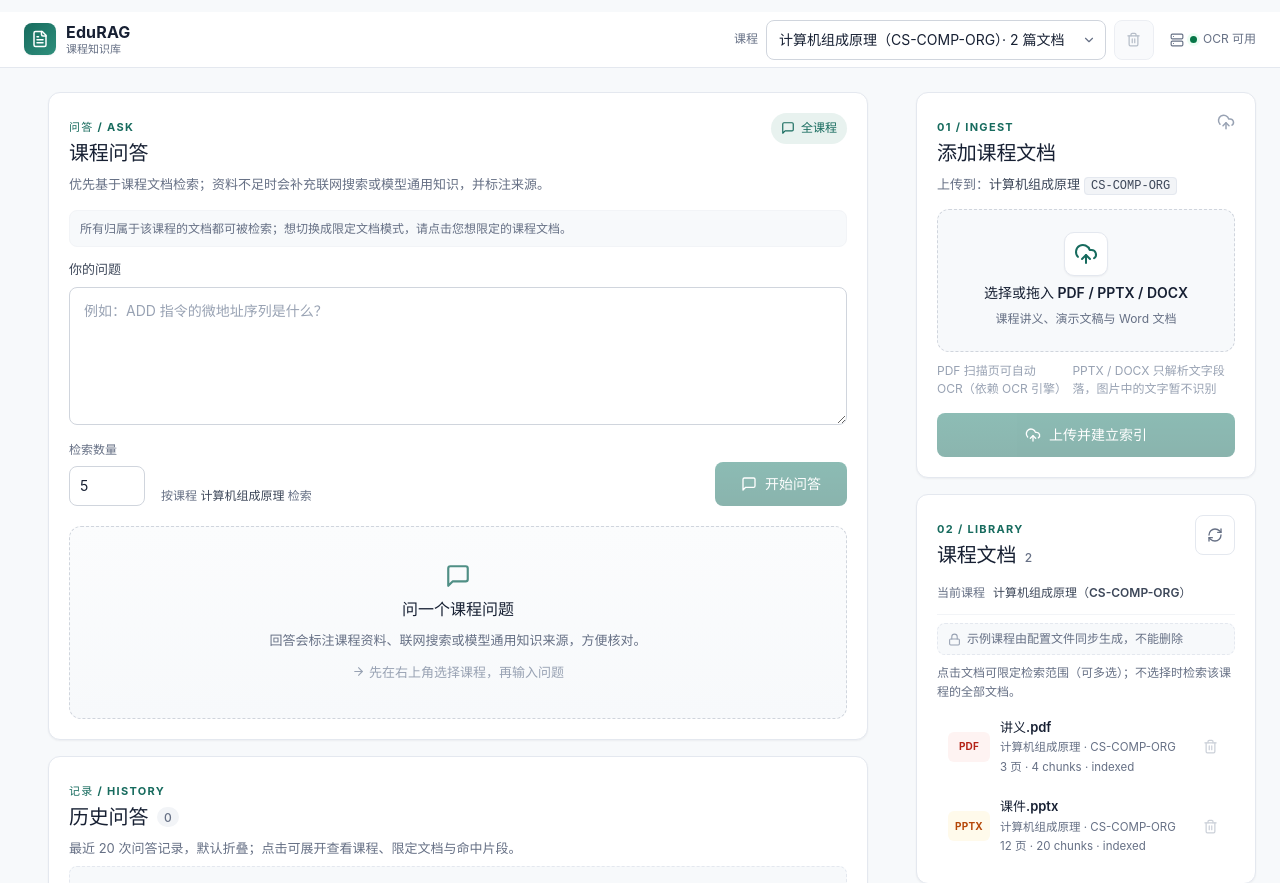
Test case: EduRAG 前端工作流 › 创建课程返回 409 course_exists 时自动切换到已有课程
Expected: the text "讲义.pdf" is shown, [1000,719,1051,735]
Select "+ 手动新建课程…" in the dropdown labelled "课程": (936, 40) [766,20,1106,60]
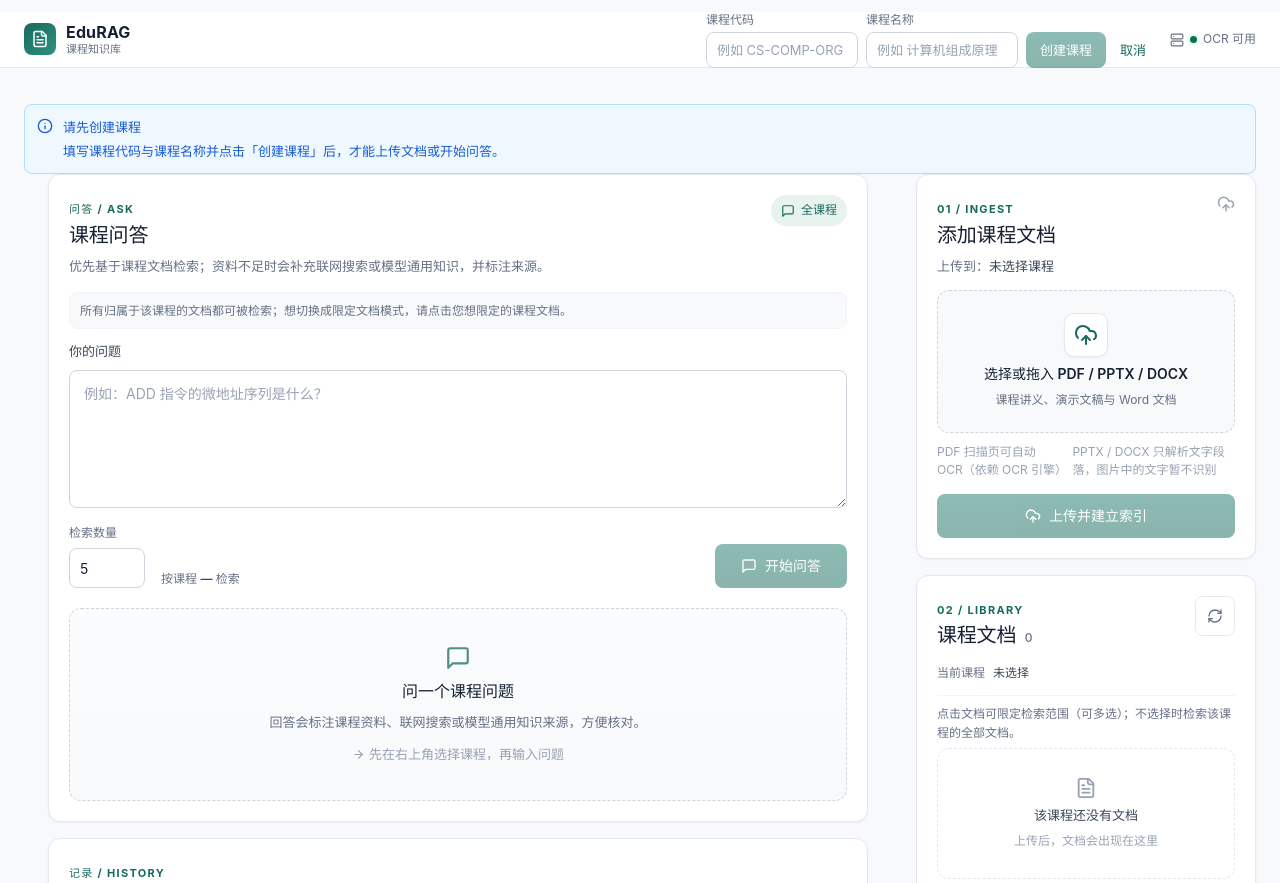
In the field labelled "课程代码": (782, 50) [706,32,858,68], type "cs-sys"
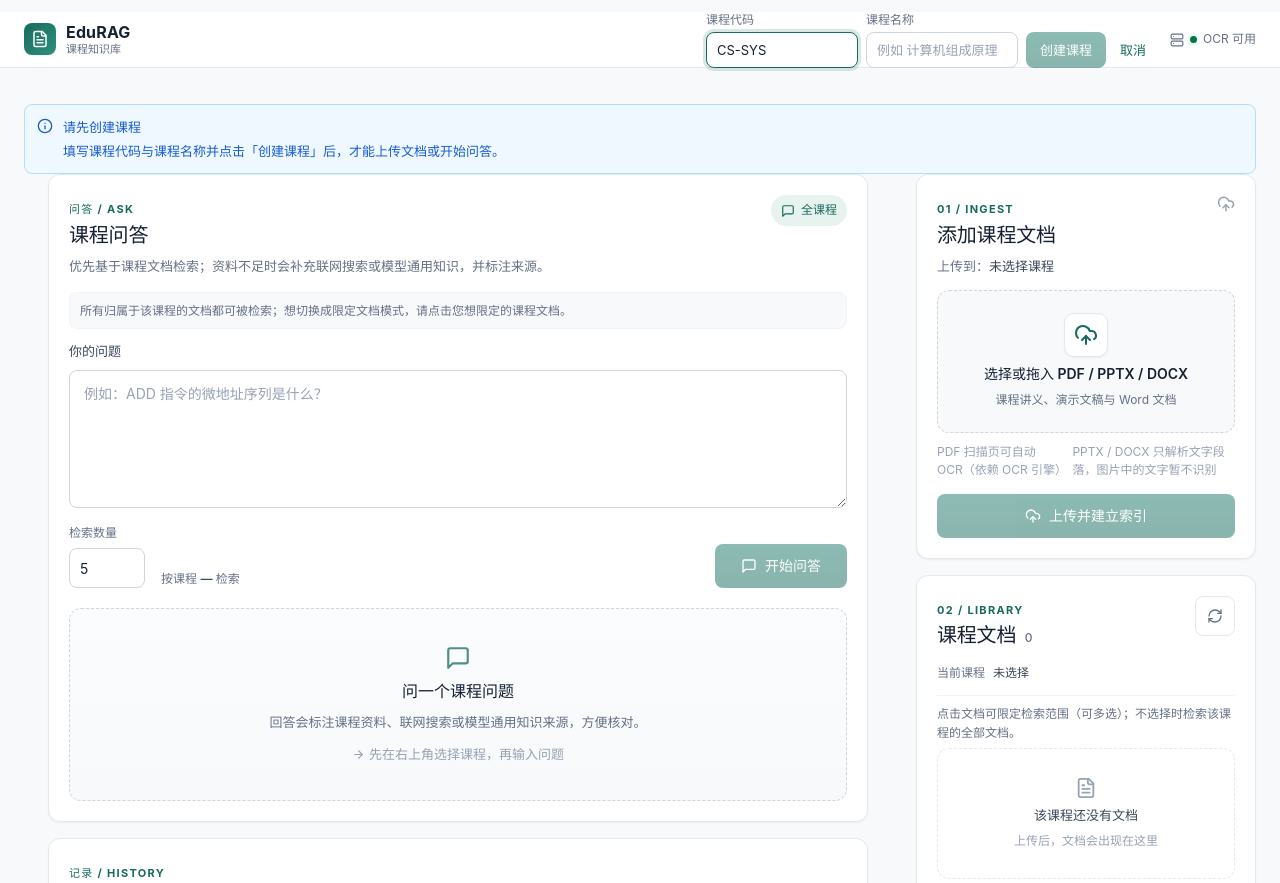
In the field labelled "课程名称": (942, 50) [866,32,1018,68], type "计算机系统"
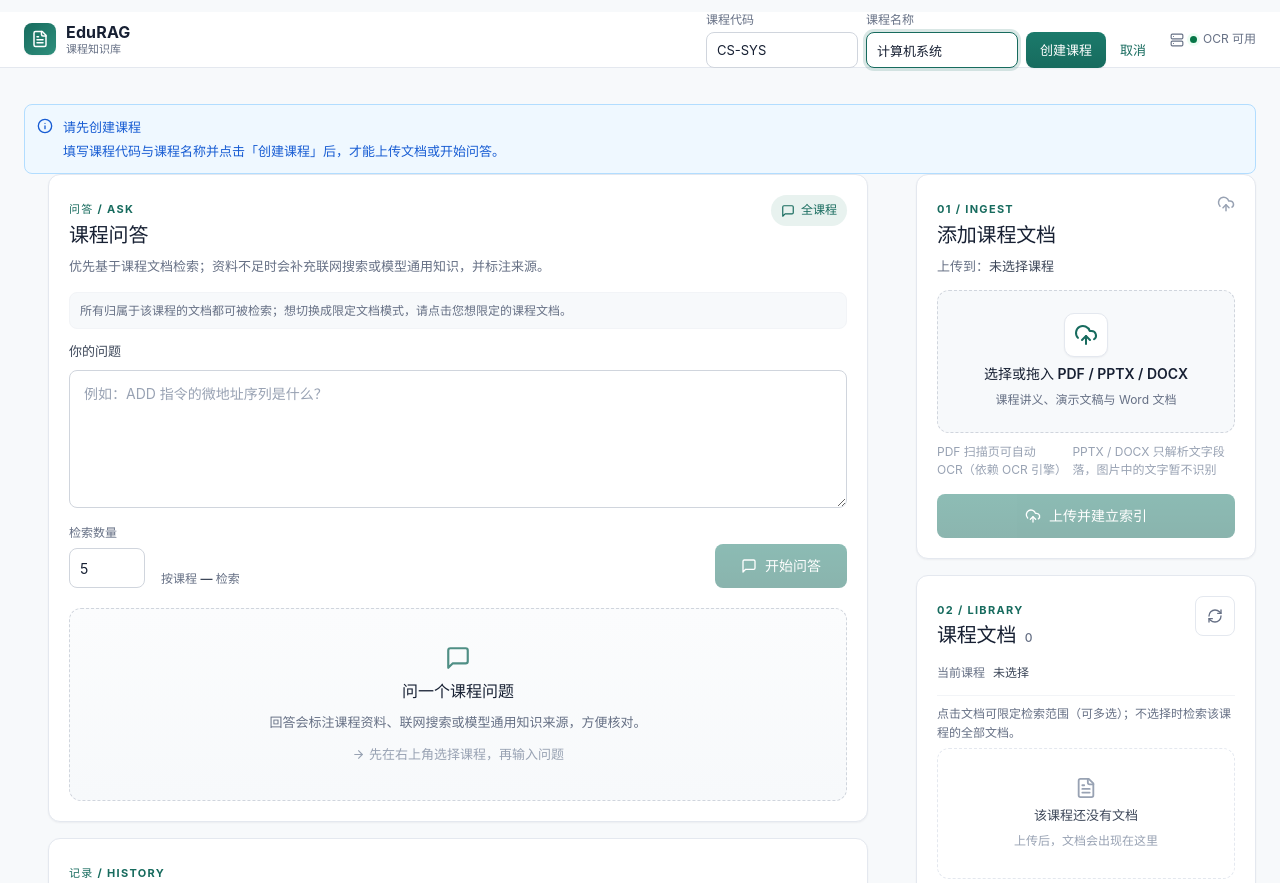
Click the button "创建课程": (1066, 50) [1026,32,1106,68]
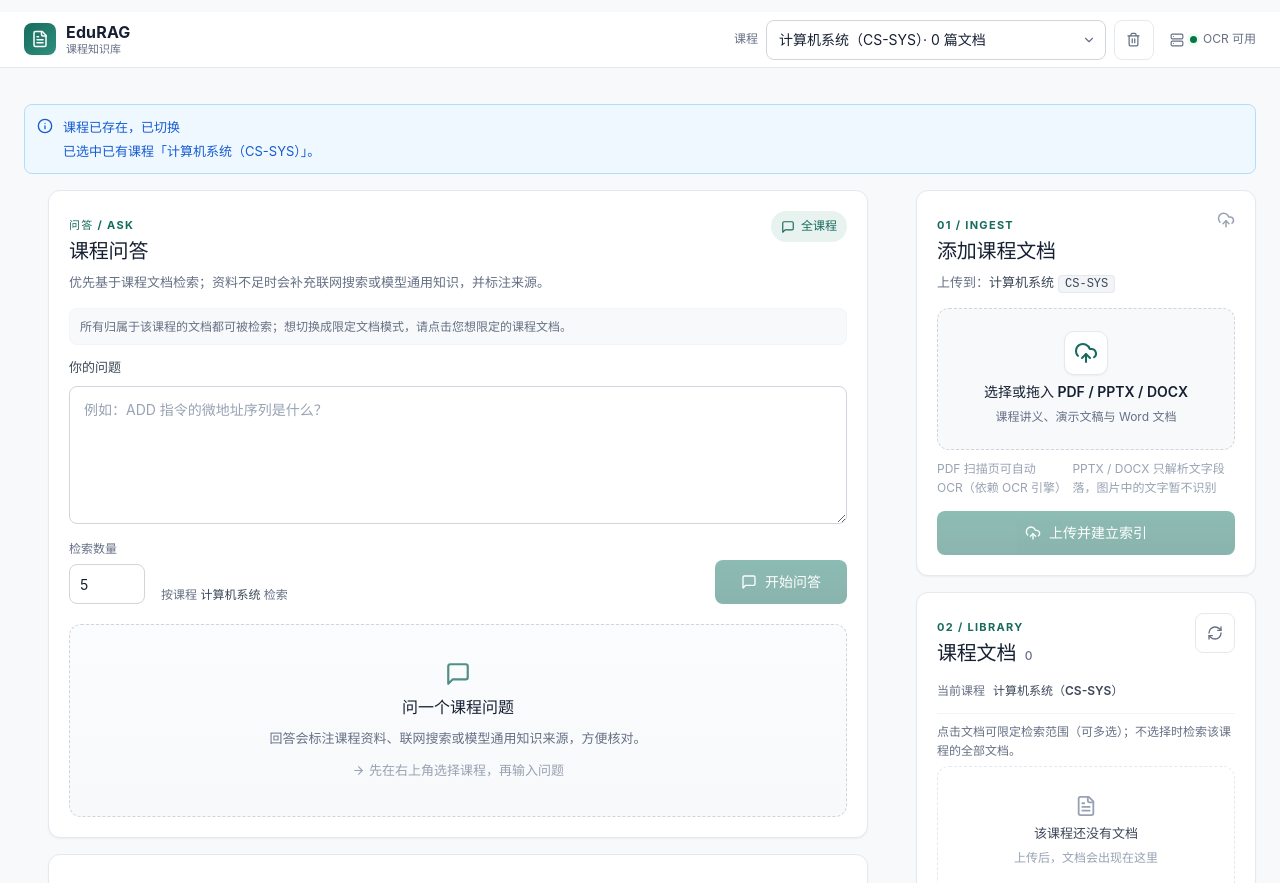
Result: the text "课程已存在，已切换" is shown at [63,119,180,135]
Result: the dropdown labelled "课程" shows "计算机系统（CS-SYS）· 0 篇文档" at [766,20,1106,60]
